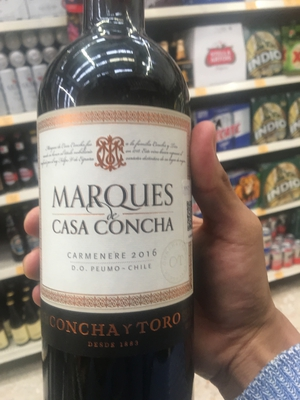marques de casa concha carmenere: (37, 18, 211, 381)
